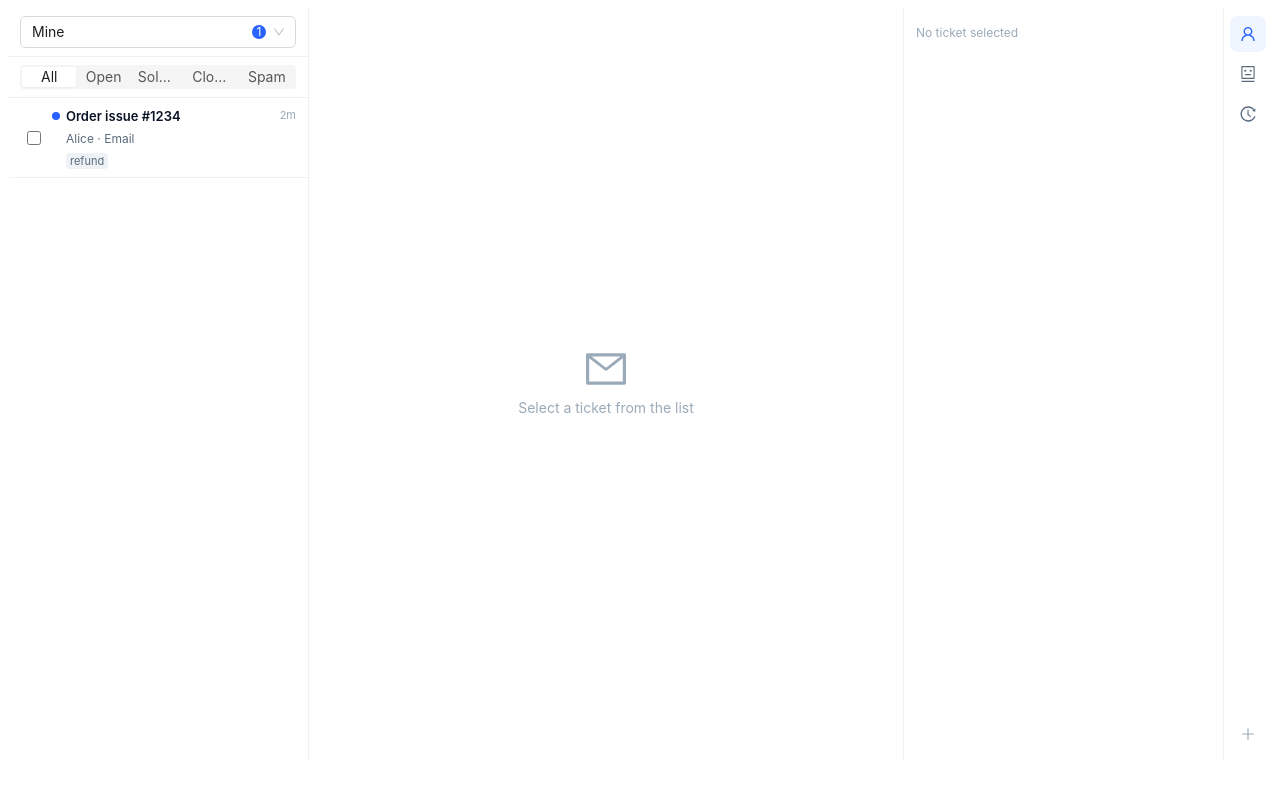
it: InboxPage (3-column) › shows message content after ticket is loaded
The image size is (1280, 800).
Click the text "Order issue #1234".
click(123, 116)  # box left=66, top=108, right=181, bottom=124
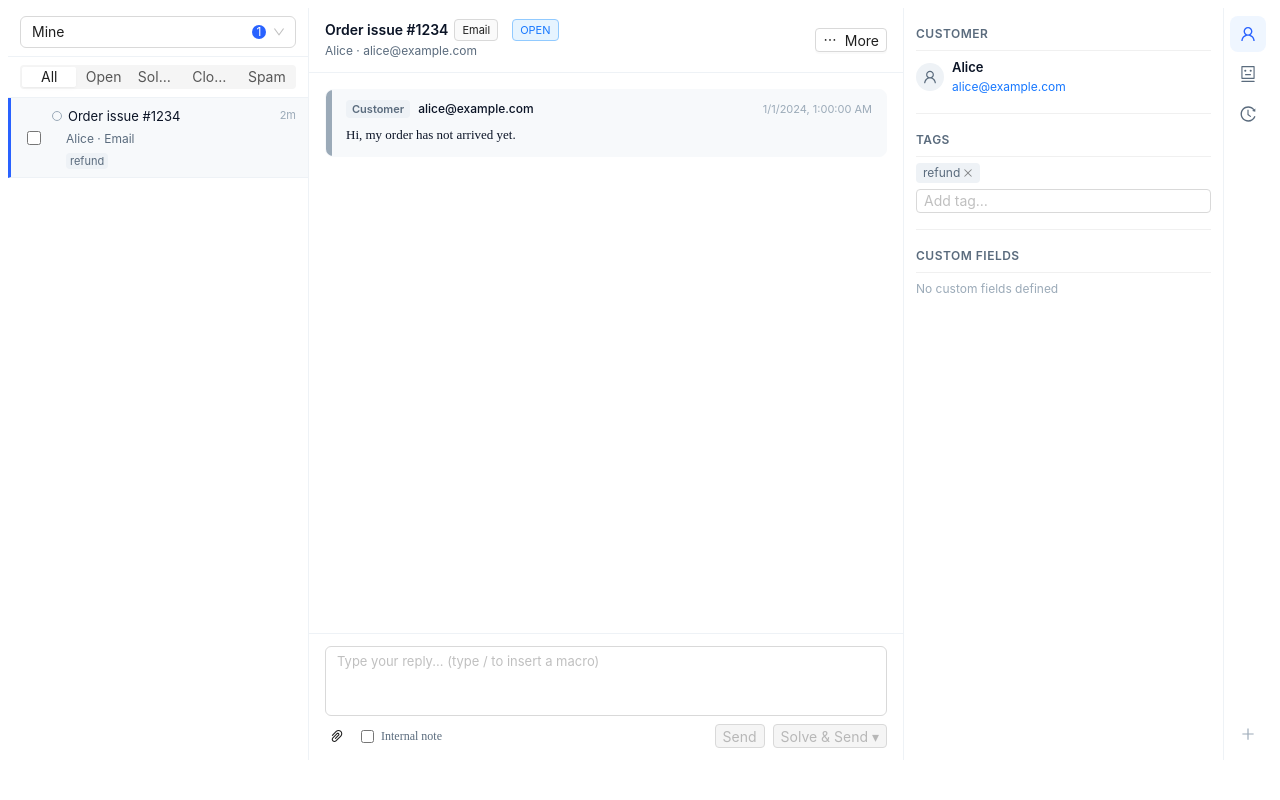
expect the text "Hi, my order has not arrived yet." is shown: met, box left=346, top=127, right=516, bottom=142
